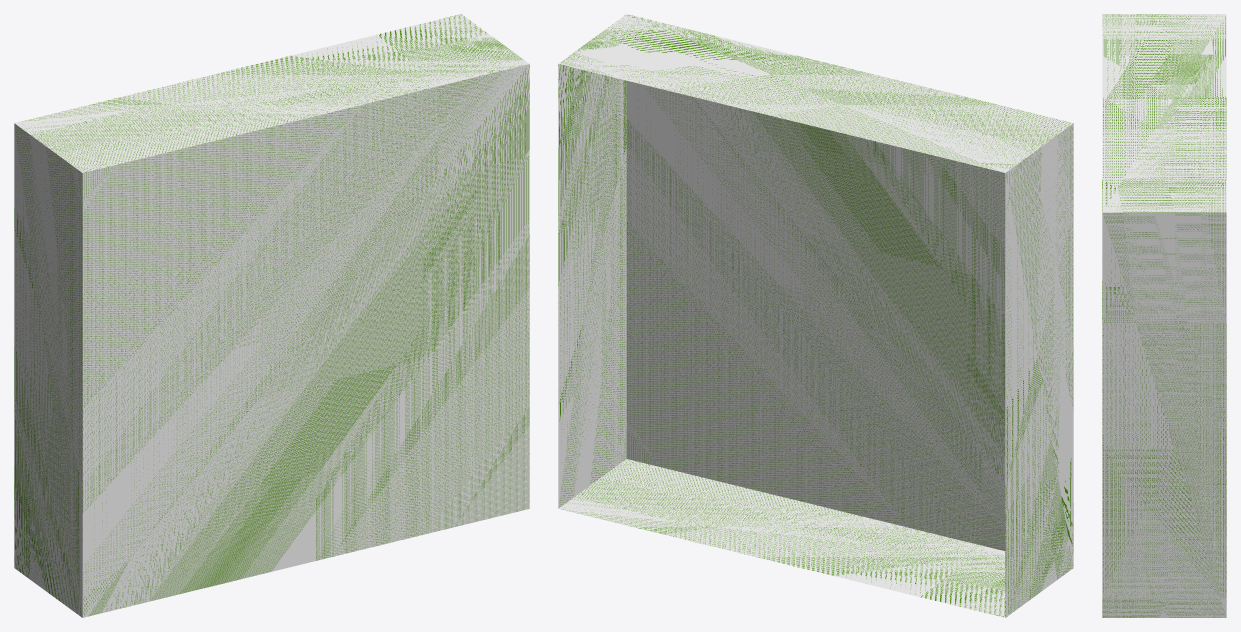
File: original-40.obj
3 views of the same model, side by side, from view 1: azimuth 30°, elevation 25°; view 2: azimuth 150°, elevation 25°; view 3: azimuth 270°, elevation 25° (orthographic). The views are drawn at different scales.
Parts seen in each view (by area): view 1: mesh2/mesh2-geometry/material_3/component_1#mesh2-geometry; view 2: mesh2/mesh2-geometry/material_3/component_1#mesh2-geometry; view 3: mesh2/mesh2-geometry/material_3/component_1#mesh2-geometry.
Part boxes in pixels (bbox=[...]): mesh2/mesh2-geometry/material_3/component_1#mesh2-geometry: bbox=[14, 14, 529, 617]; mesh2/mesh2-geometry/material_3/component_1#mesh2-geometry: bbox=[558, 14, 1073, 617]; mesh2/mesh2-geometry/material_3/component_1#mesh2-geometry: bbox=[1102, 14, 1226, 617].
Size of the model in its own units: 0.0251 by 0.0239 by 0.00665.
